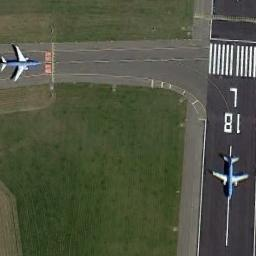Airplane: (210, 148, 252, 206), (0, 43, 44, 83)
